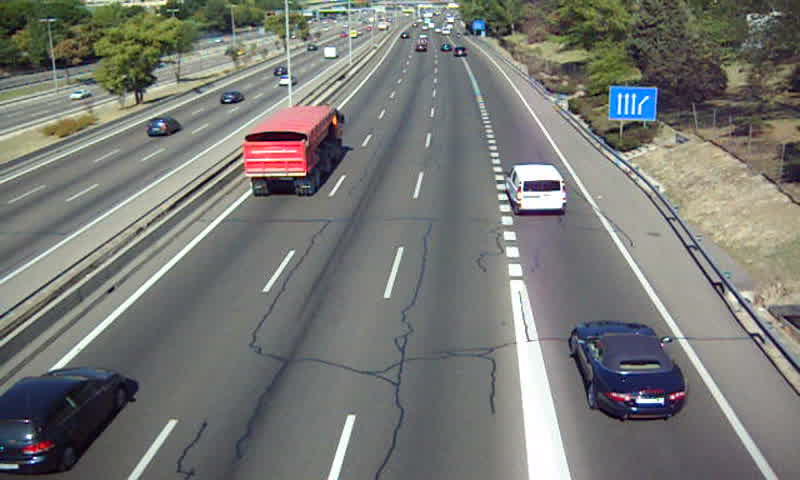car: (1, 368, 122, 473), (570, 323, 685, 417)
truck: (241, 106, 344, 195)
van: (506, 164, 568, 214)
